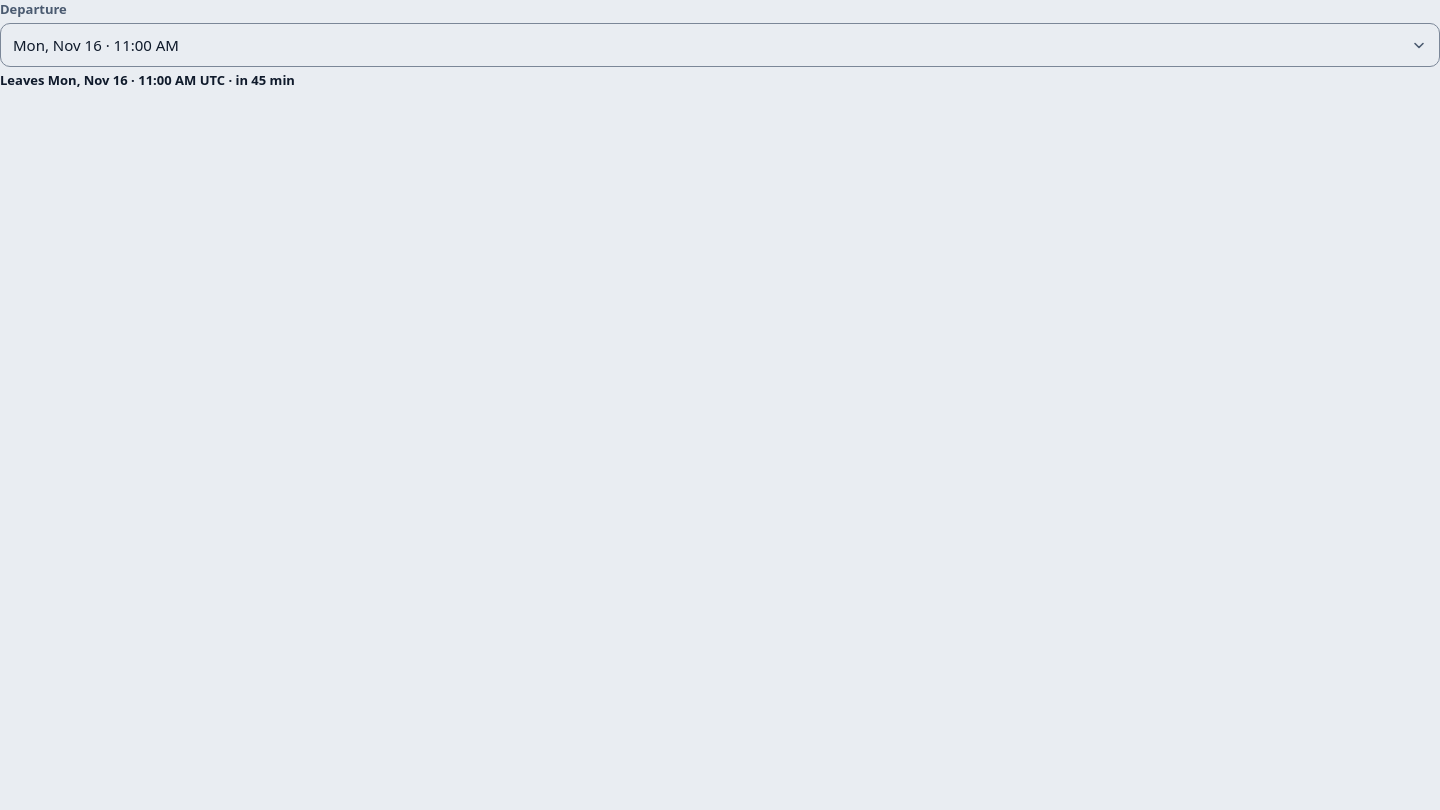
Test: DeparturePicker › moves the day and the hour with the arrow keys
Later steps or results of the test are not shown.
Click the button with test id "departure-trigger" at (96, 45), box [0,23,1439,67]
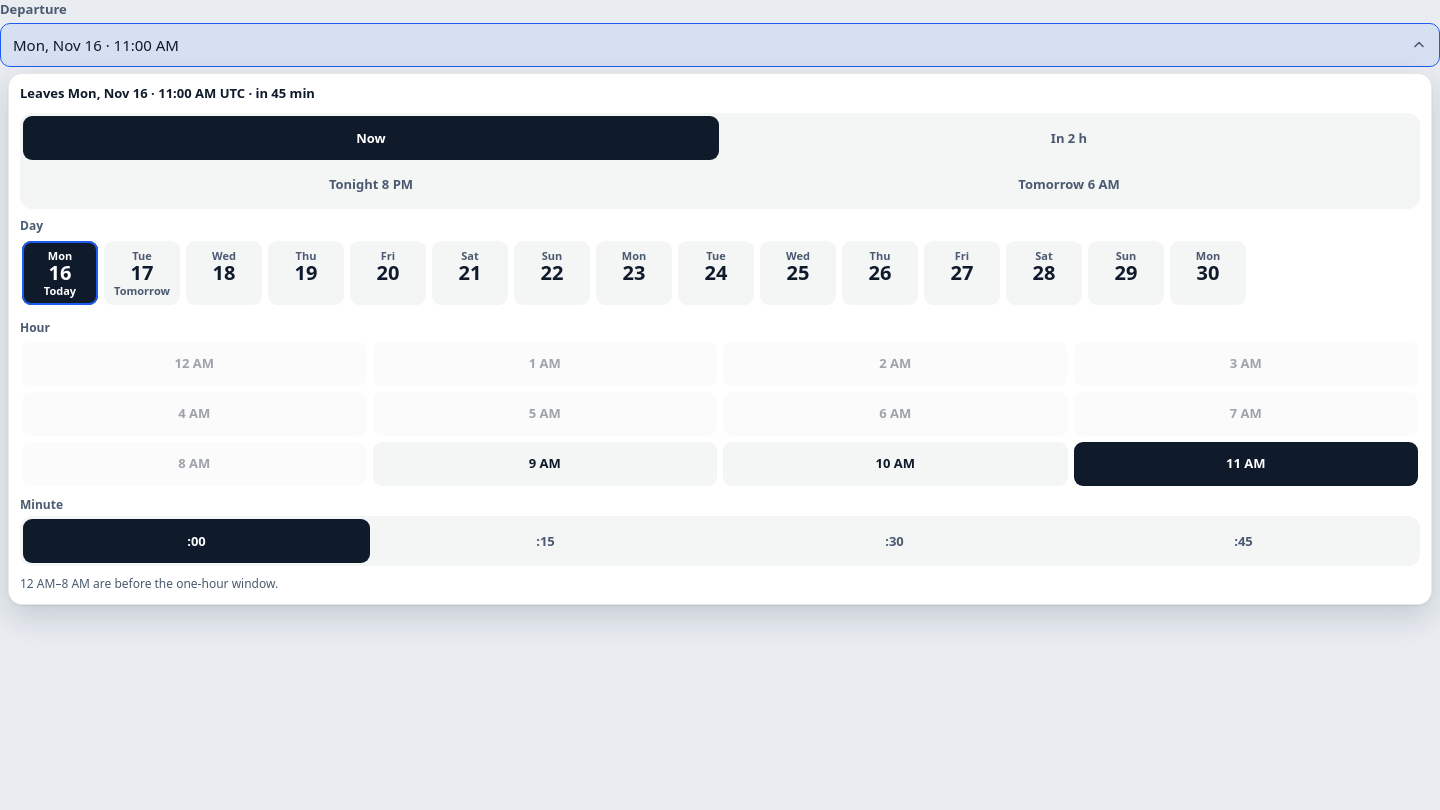
Press Arrowright
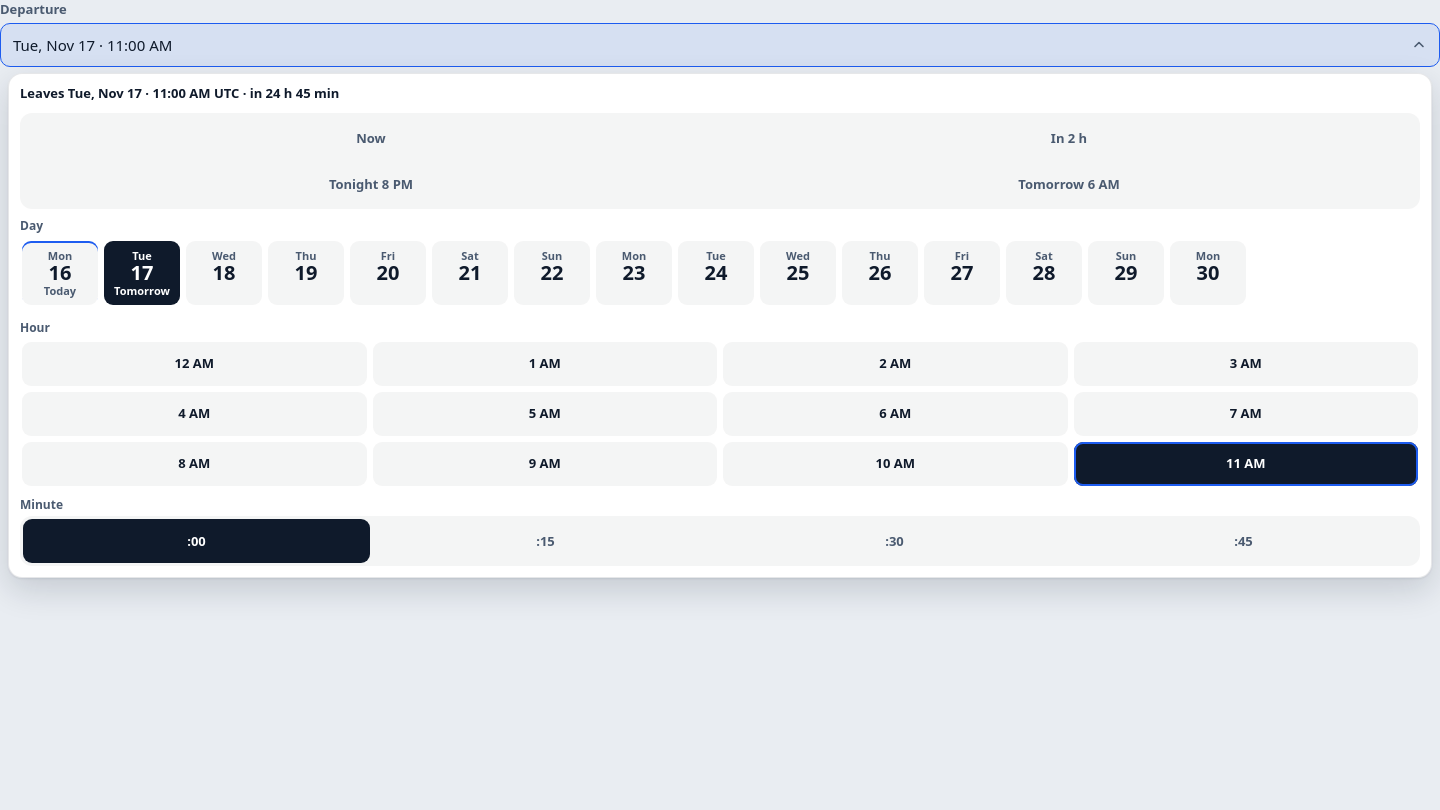
Now the button with test id "departure-trigger" has attribute data-departure="2026-11-17T11:00", box [0,23,1439,67]
Press Arrowright
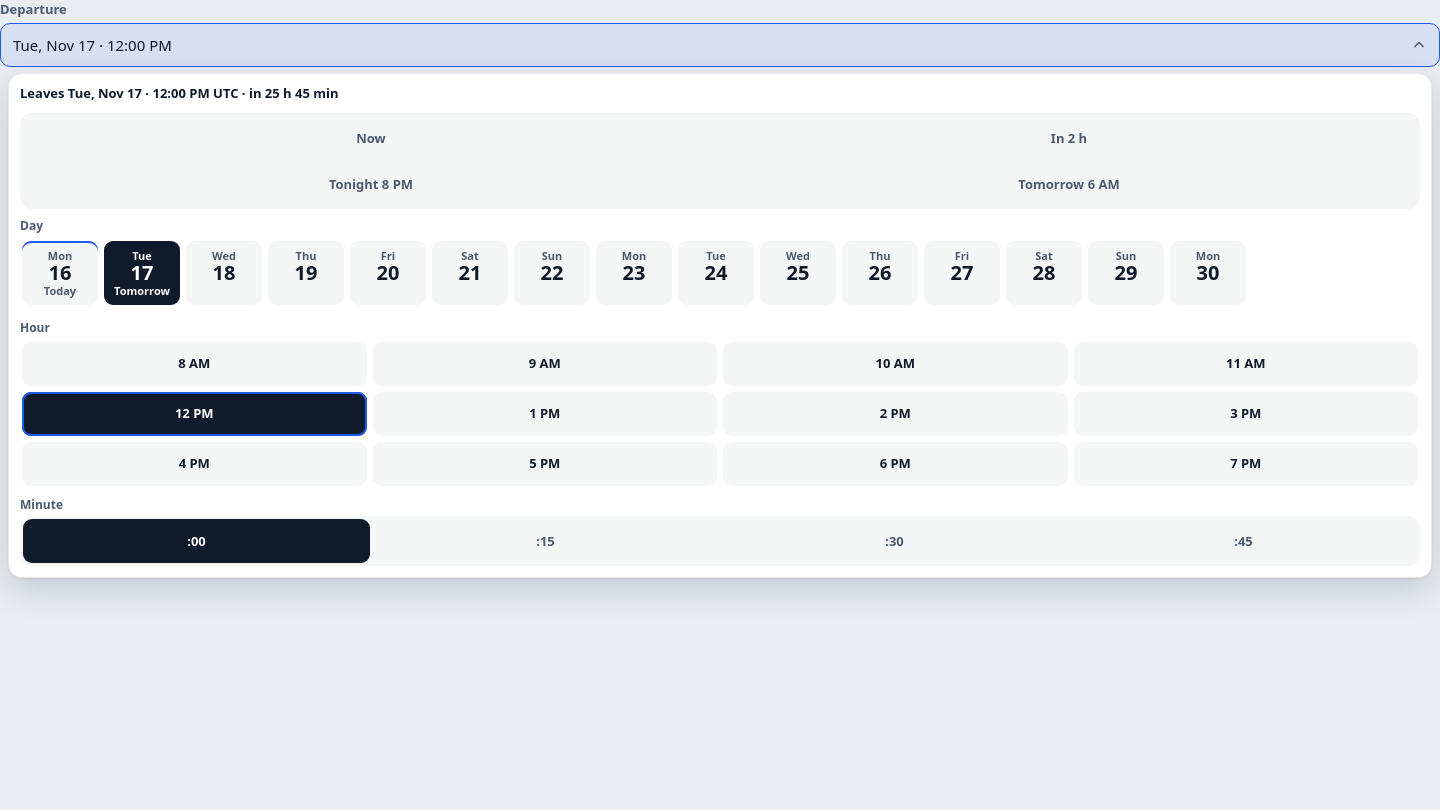
Now the button with test id "departure-trigger" has attribute data-departure="2026-11-17T12:00", box [0,23,1439,67]
